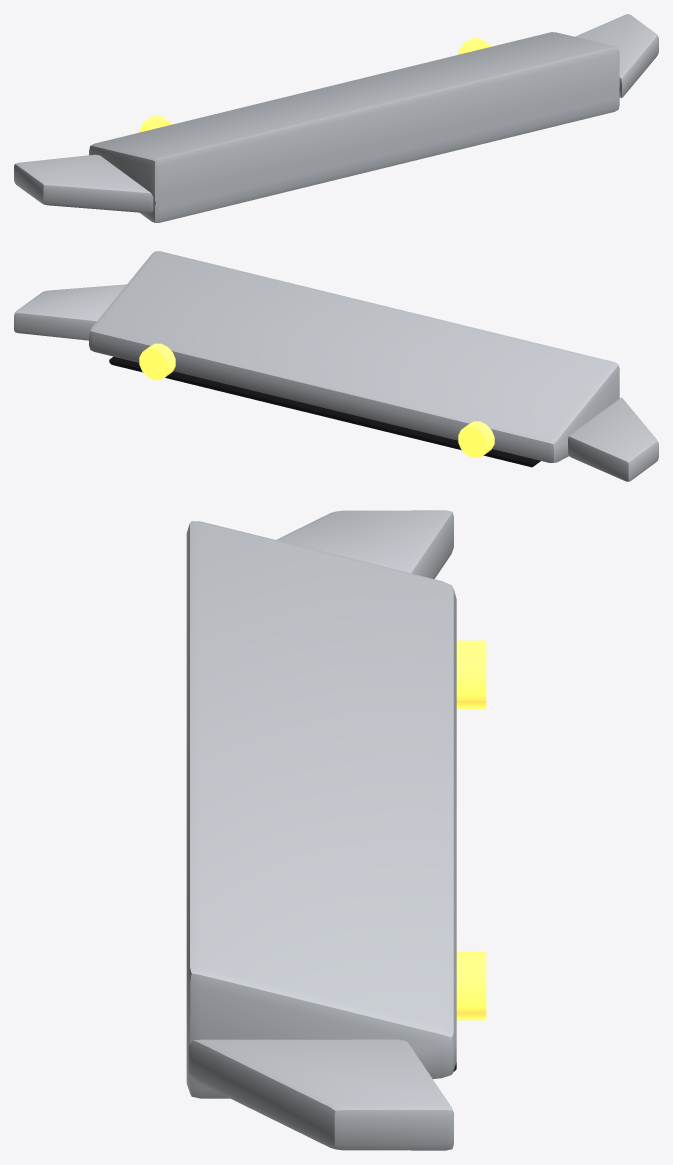
File: bumper_extension_lip.glb
3 views of the same model, one above another, from view 1: azimuth 30°, elevation 25°; view 2: azimuth 150°, elevation 25°; view 3: azimuth 270°, elevation 25° (orthographic). The views are drawn at different scales.
Parts seen in each view (by area): view 1: chrome, lamp_amber; view 2: chrome, plastic_black, lamp_amber; view 3: chrome, lamp_amber.
Boxes of the visible parts, bbox=[...] form: chrome: bbox=[14, 14, 658, 222]; lamp_amber: bbox=[139, 38, 491, 132]; chrome: bbox=[14, 251, 658, 481]; plastic_black: bbox=[109, 356, 540, 467]; lamp_amber: bbox=[139, 343, 494, 457]; chrome: bbox=[186, 510, 456, 1150]; lamp_amber: bbox=[456, 640, 486, 1020].
Bounding box in the file's own units: 2.9 × 0.2921 × 0.61.
